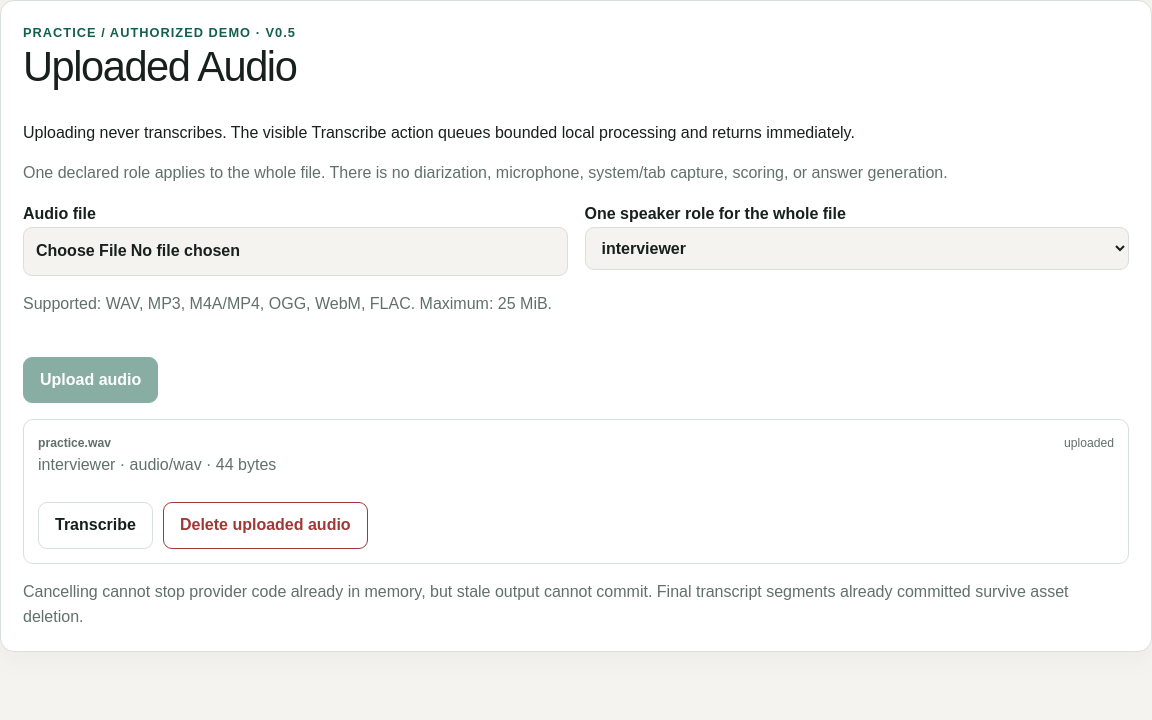
Test: UploadedAudioPanel actions and accessibility › posts a fresh action ID only after explicit Transcribe and renders the queued state
Click the button with aria-label "Transcribe practice.wav".
click(95, 526)  # box top-left (38, 502), bottom-right (153, 549)
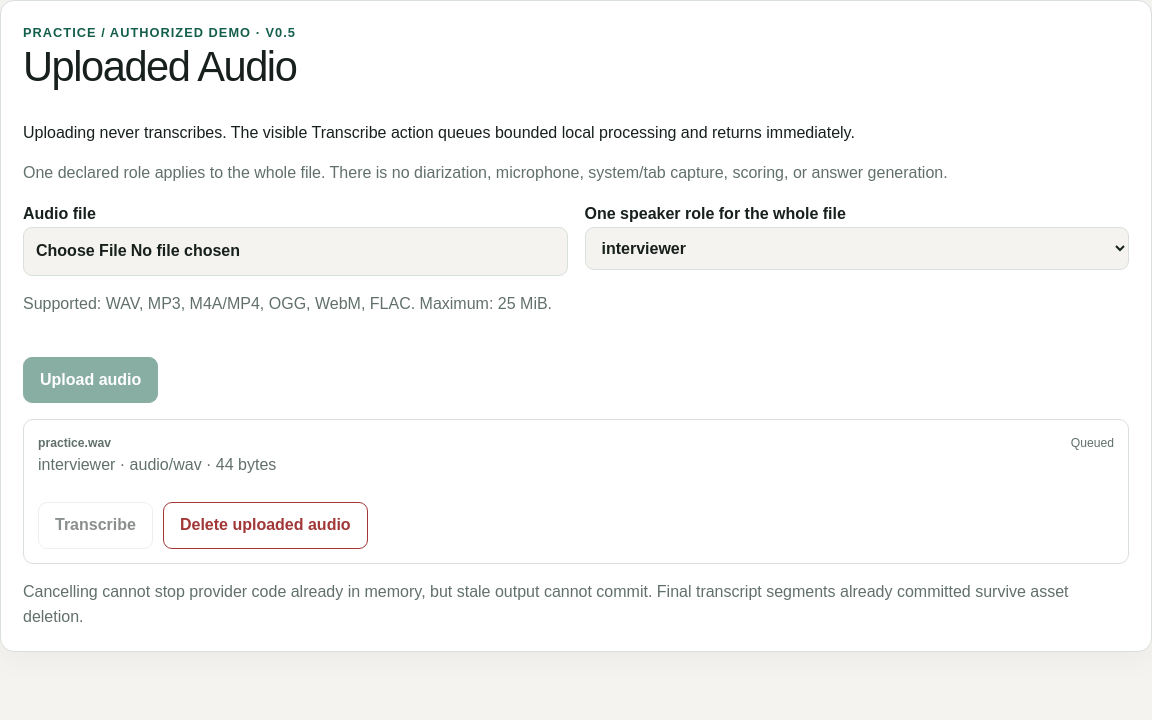
Expected: the text with test id "uploaded-audio-status" reads "Queued", top-left (1071, 436), bottom-right (1114, 450)
